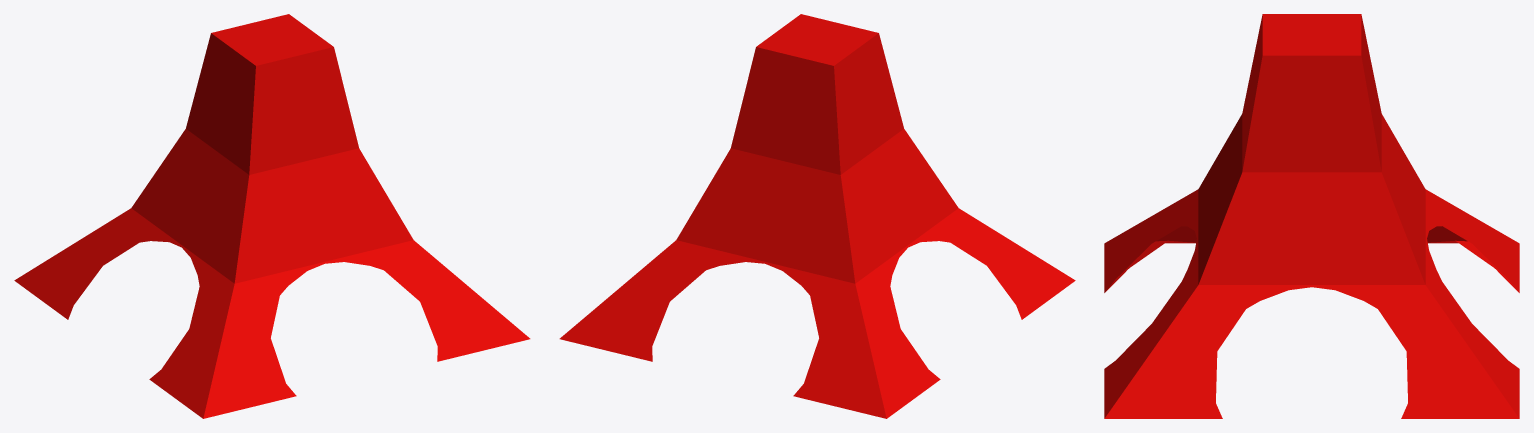
Rendered from 东京塔2Down.fbx.
3 views of the same model, side by side, from view 1: azimuth 30°, elevation 25°; view 2: azimuth 150°, elevation 25°; view 3: azimuth 270°, elevation 25° (orthographic). The views are drawn at different scales.
Visible parts, largest first — view 1: Object_4.001; view 2: Object_4.001; view 3: Object_4.001.
Part boxes in pixels (x1,y1,x2,y2): Object_4.001: (14,14,530,418); Object_4.001: (559,14,1075,418); Object_4.001: (1104,14,1519,418).
Size of the model in its own units: 200 by 157 by 200.
